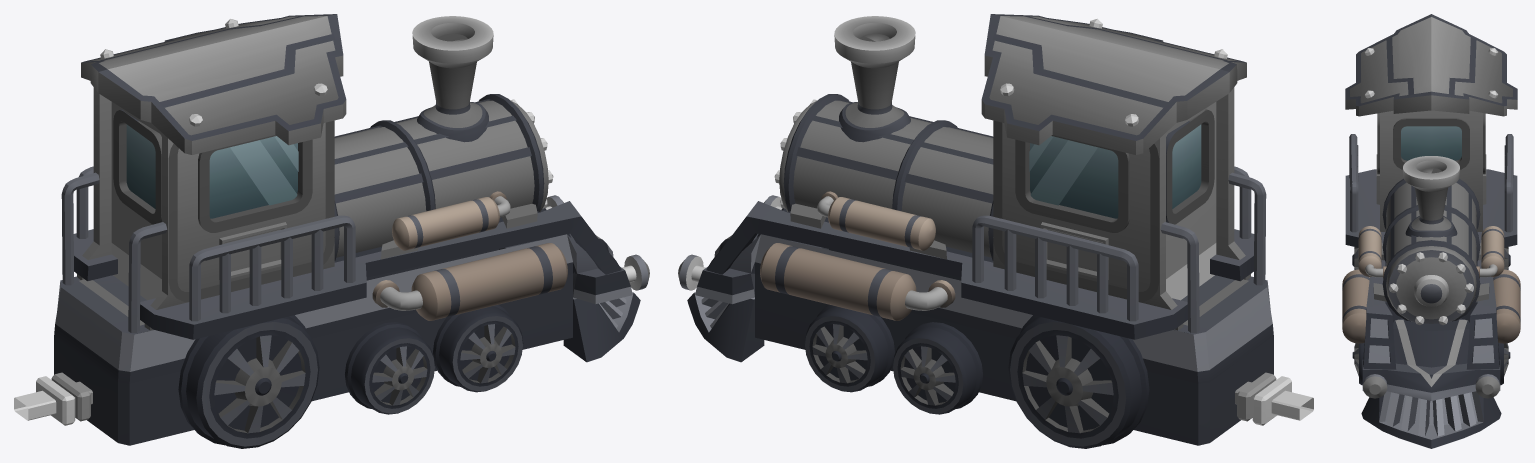
File: Train Engine.fbx
3 renders of one model, left to right at view 1: azimuth 30°, elevation 25°; view 2: azimuth 150°, elevation 25°; view 3: azimuth 270°, elevation 25°, orthographic. The views are drawn at different scales.
Parts seen in each view (by area): view 1: Body, Wheel_01_1, Wheel_01_2, Wheel_01_3; view 2: Body, Wheel_01_4, Wheel_01_5, Wheel_01_6; view 3: Body, Wheel_01_6, Wheel_01_3.
Part boxes in pixels (<box>): Body: <box>14,14,649,445</box>; Wheel_01_1: <box>178,315,319,448</box>; Wheel_01_2: <box>345,322,434,414</box>; Wheel_01_3: <box>433,304,523,392</box>; Body: <box>678,14,1313,445</box>; Wheel_01_4: <box>1008,315,1149,448</box>; Wheel_01_5: <box>893,322,982,414</box>; Wheel_01_6: <box>804,304,894,392</box>; Body: <box>1342,14,1520,448</box>; Wheel_01_6: <box>1498,343,1510,385</box>; Wheel_01_3: <box>1352,343,1364,385</box>.
Size of the model in its own units: 0.0463 by 0.0264 by 0.0166.
1 material, 1 textured.
